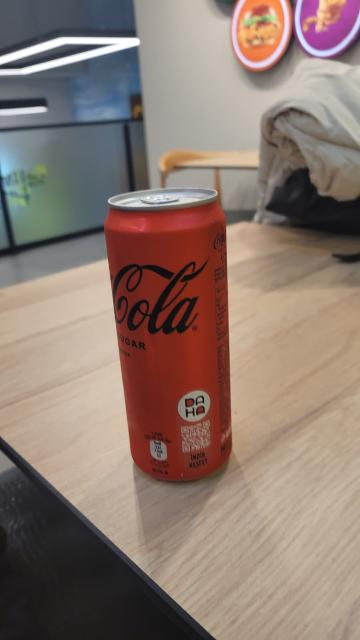Metal: (104, 183, 240, 500)
